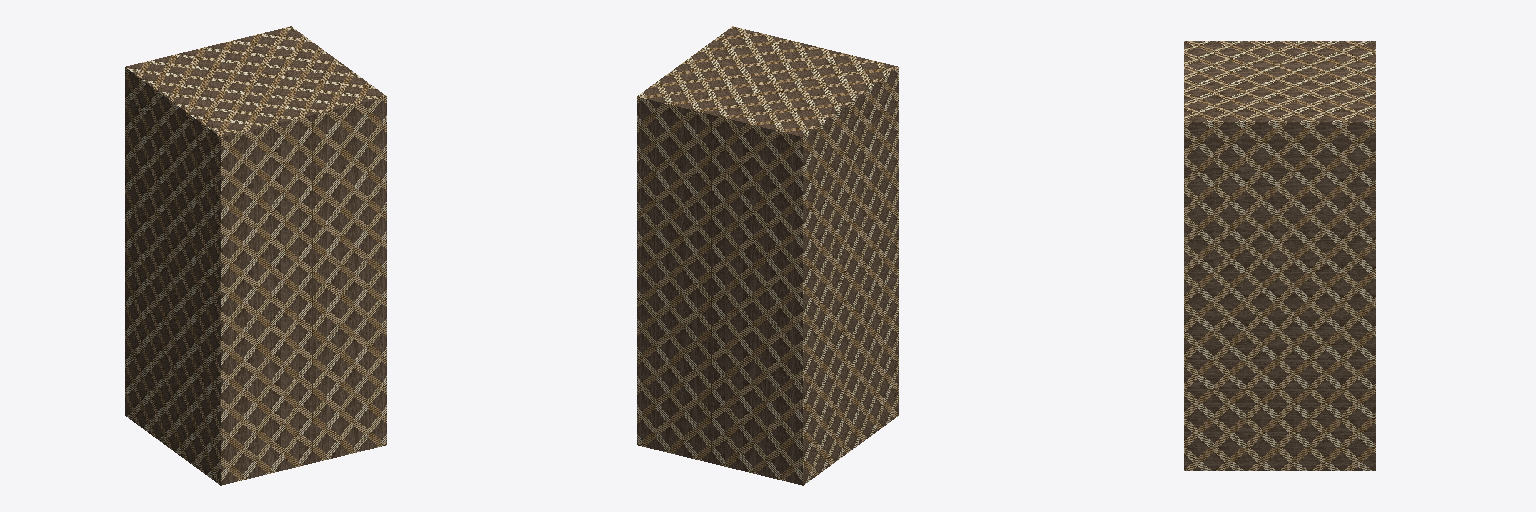
The picture shows the model from 3 angles: view 1: azimuth 30°, elevation 25°; view 2: azimuth 150°, elevation 25°; view 3: azimuth 270°, elevation 25°; orthographic projection.
Visible parts, largest first — view 1: g_g; view 2: g_g; view 3: g_g.
Boxes of the visible parts, <box> form: g_g: <box>125,26,386,485</box>; g_g: <box>637,26,898,485</box>; g_g: <box>1184,41,1375,470</box>.
Size of the model in its own units: 400 by 800 by 400.
Materials: 2 (1 with a texture image).